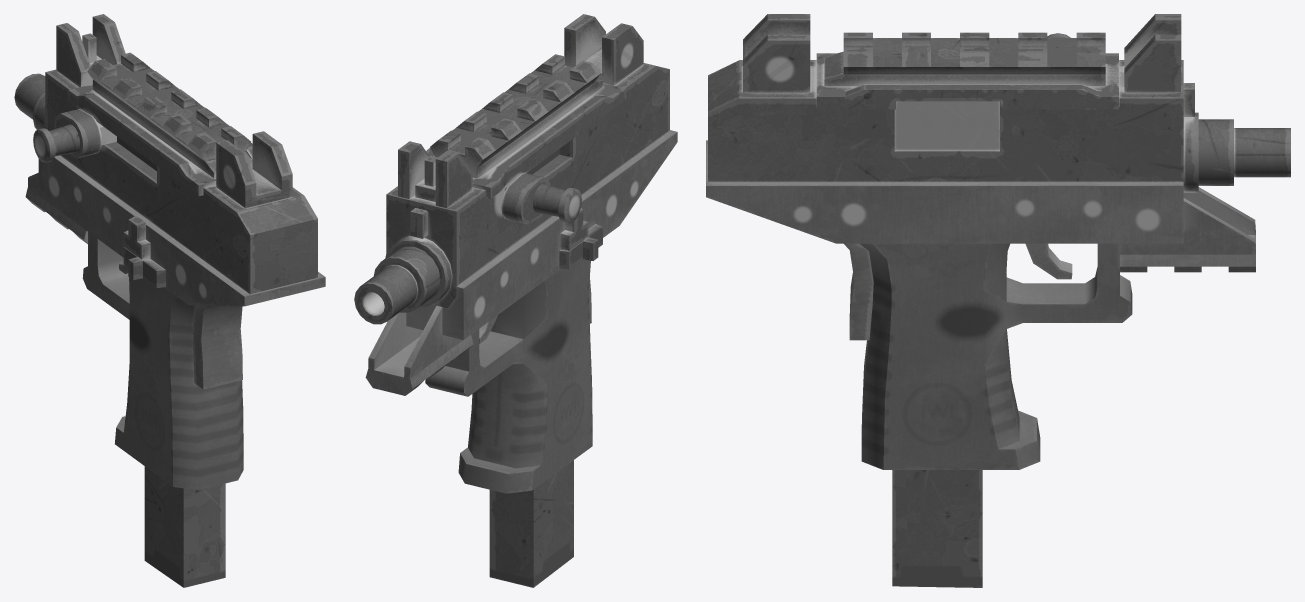
Rendered from IG_Gun_UZI.fbx.
3 views of the same model, side by side, from view 1: azimuth 30°, elevation 25°; view 2: azimuth 150°, elevation 25°; view 3: azimuth 270°, elevation 25° (orthographic). The views are drawn at different scales.
Visible parts, largest first — view 1: Pfb_WPN_WPN_UZIPRO_Pistol; view 2: Pfb_WPN_WPN_UZIPRO_Pistol; view 3: Pfb_WPN_WPN_UZIPRO_Pistol.
Part boxes in pixels (bbox=[...]): Pfb_WPN_WPN_UZIPRO_Pistol: bbox=[14, 14, 325, 587]; Pfb_WPN_WPN_UZIPRO_Pistol: bbox=[354, 14, 677, 587]; Pfb_WPN_WPN_UZIPRO_Pistol: bbox=[706, 14, 1290, 587].
Bounding box in the file's own units: 0.1284 × 0.435 × 0.4201.
